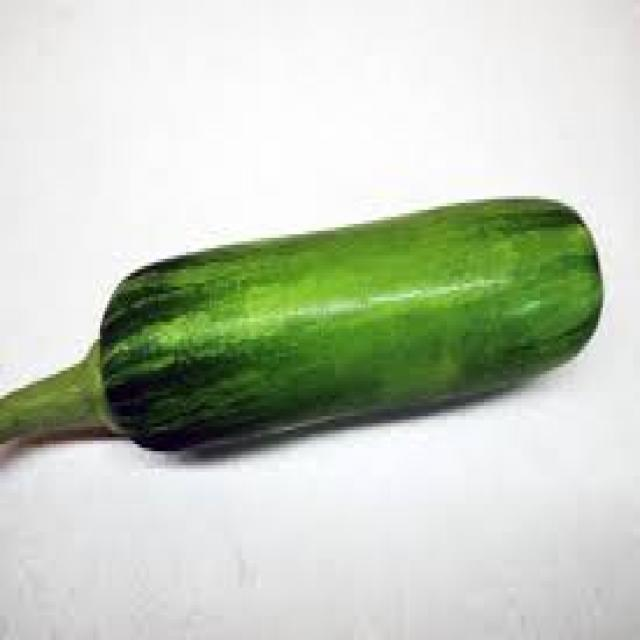Yogurt cup: (21, 157, 621, 521)
